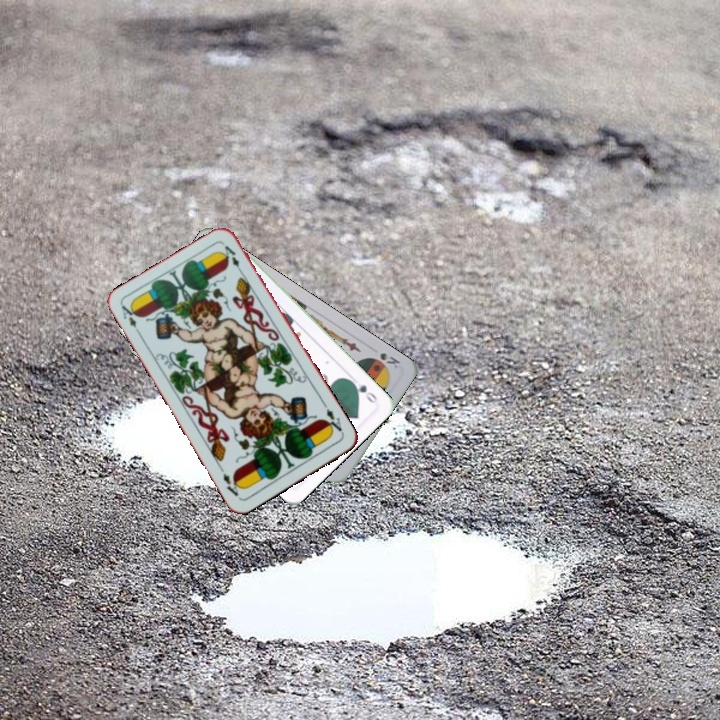EA: (117, 301, 144, 338), (321, 404, 346, 436)
GO: (346, 376, 380, 406)
SK: (376, 348, 403, 371)
